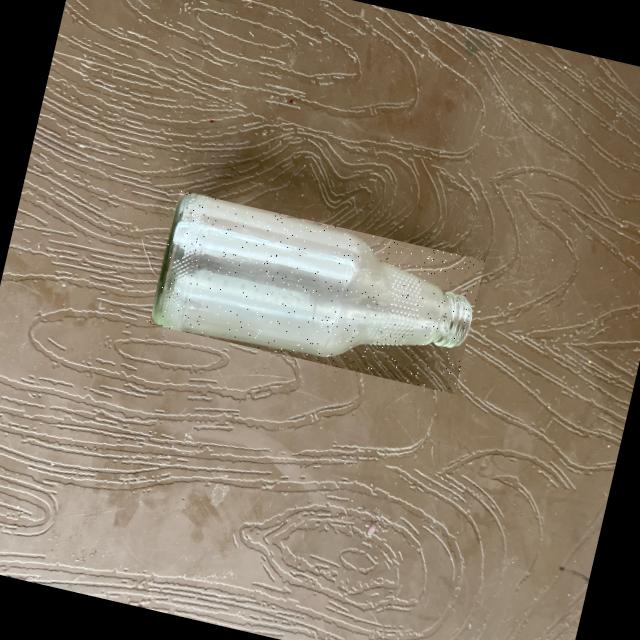Glass_Bottle: (152, 193, 471, 355)
